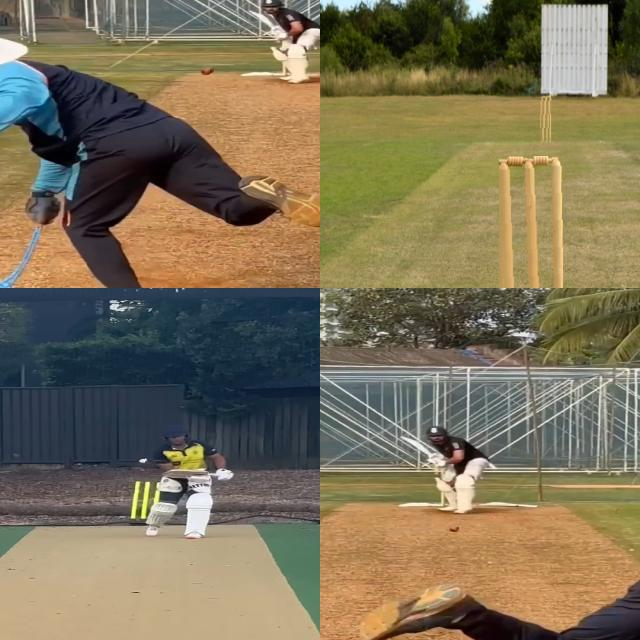Cricket ball: (200, 67, 215, 76), (137, 457, 151, 466), (449, 526, 460, 532)
Stumps: (498, 155, 563, 288), (130, 479, 158, 525), (540, 94, 552, 144)
